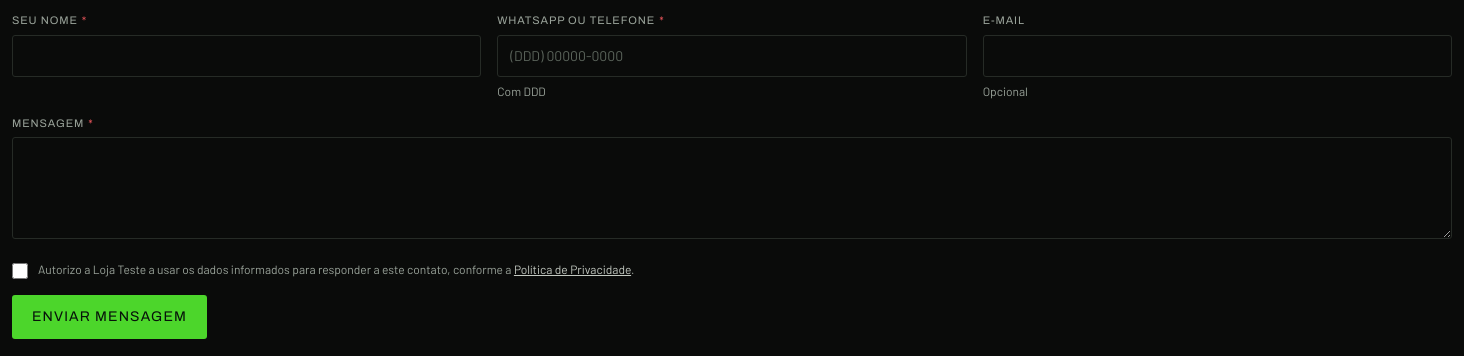
Test: formulários de lead › ContactForm › envia o lead com consentimento versionado e a página de origem
This screenshot has width=1464, height=356.
In the field labelled "Seu nome*": (247, 56) [12,34,481,76], type "Maria Silva"
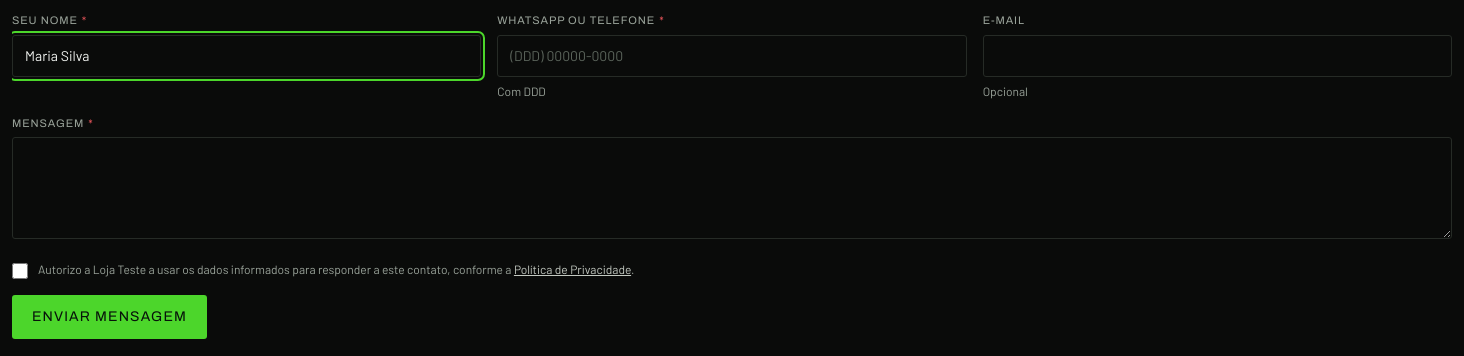
In the field labelled "WhatsApp ou telefone*": (732, 56) [497,34,967,76], type "49 99999-8888"
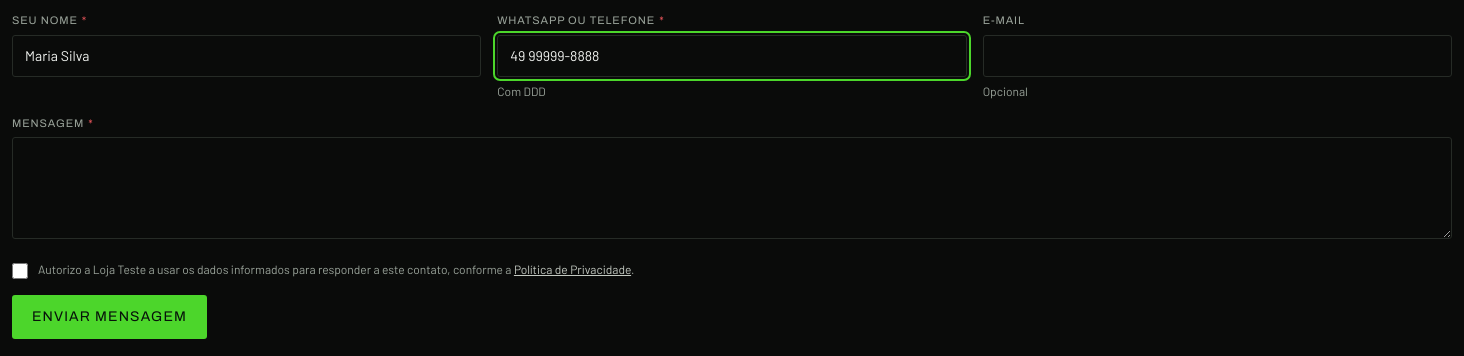
In the text box labelled "Mensagem*": (732, 188) [12,137,1452,239], type "Vocês aceitam troca?"
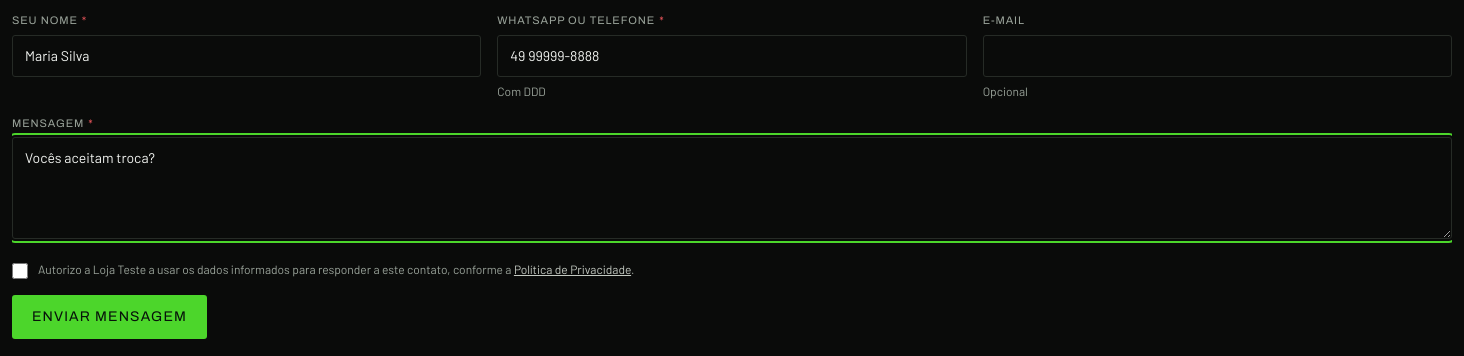
Click the checkbox labelled "Autorizo": (20, 271) [12,263,28,279]
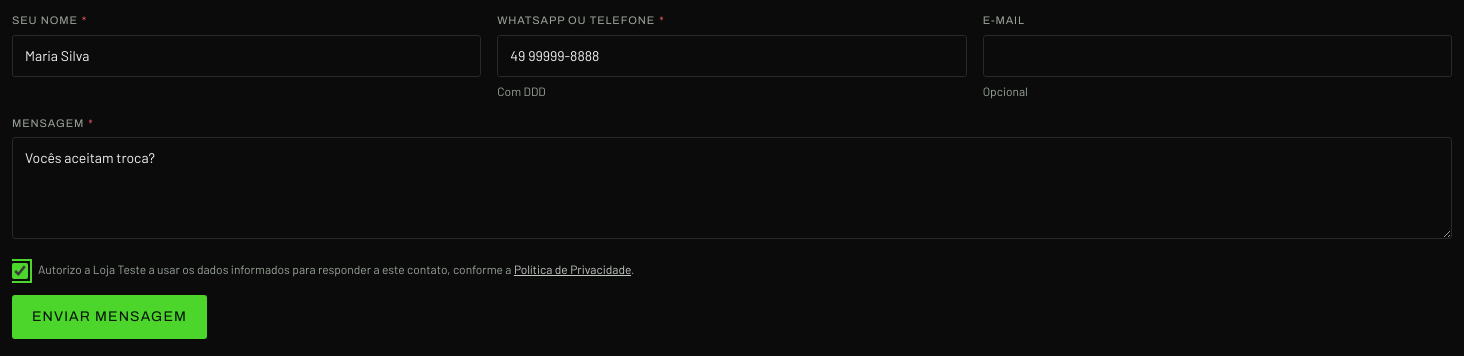
Click the button "Enviar mensagem": (110, 317) [12,295,207,339]
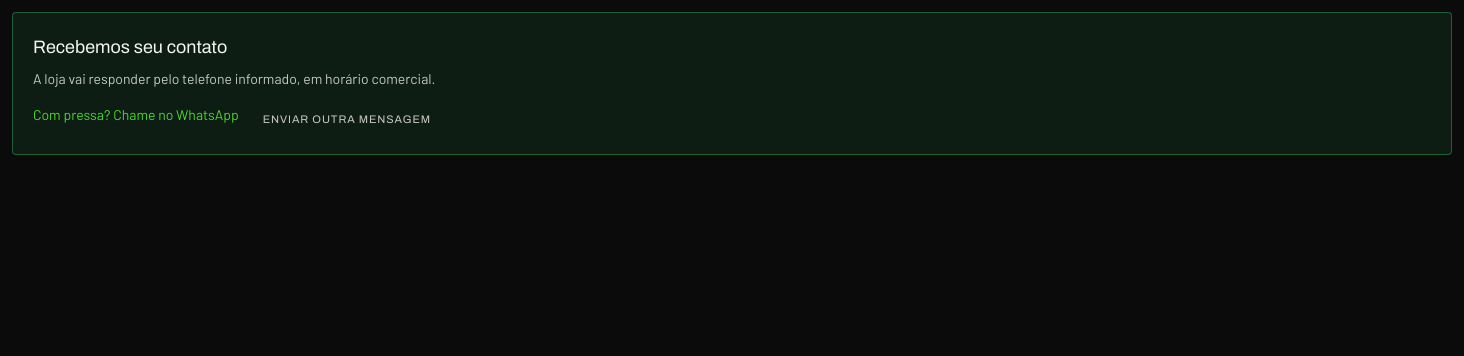
Expected: the text "Recebemos seu contato" is shown, [33,37,227,57]
